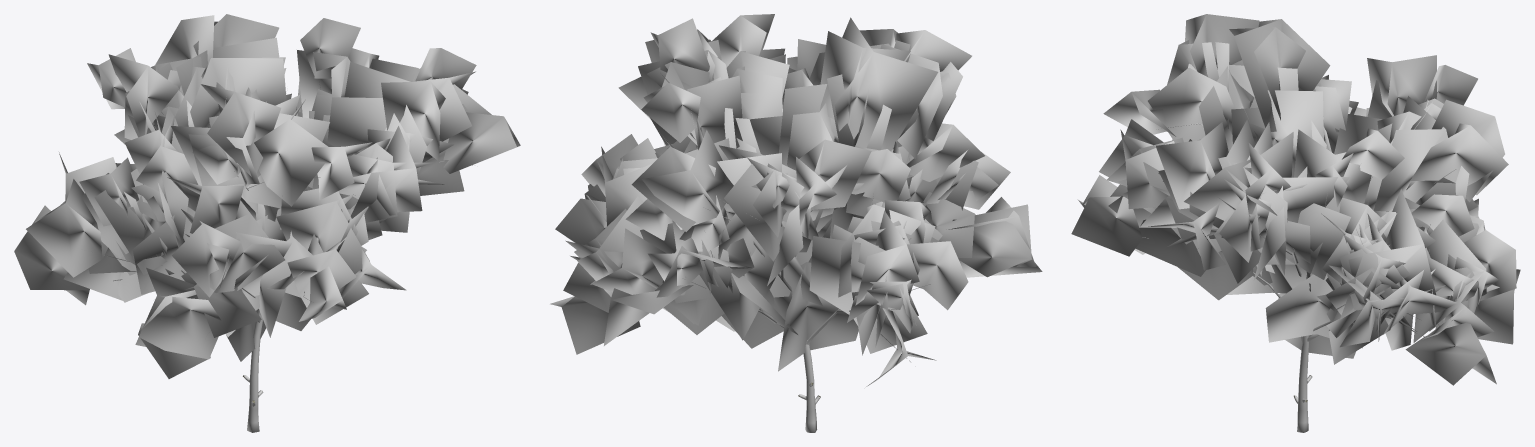
Rendered from MapleHedge_B (1).fbx.
3 views of the same model, side by side, from view 1: azimuth 30°, elevation 25°; view 2: azimuth 150°, elevation 25°; view 3: azimuth 270°, elevation 25° (orthographic). The views are drawn at different scales.
Visible parts, largest first — view 1: MapleHedge_B_LOD0; view 2: MapleHedge_B_LOD0; view 3: MapleHedge_B_LOD0.
Boxes of the visible parts, <box> form: MapleHedge_B_LOD0: <box>14,14,520,432</box>; MapleHedge_B_LOD0: <box>550,14,1042,432</box>; MapleHedge_B_LOD0: <box>1071,14,1520,432</box>.
Bounding box in the file's own units: 706 × 654 × 681.
